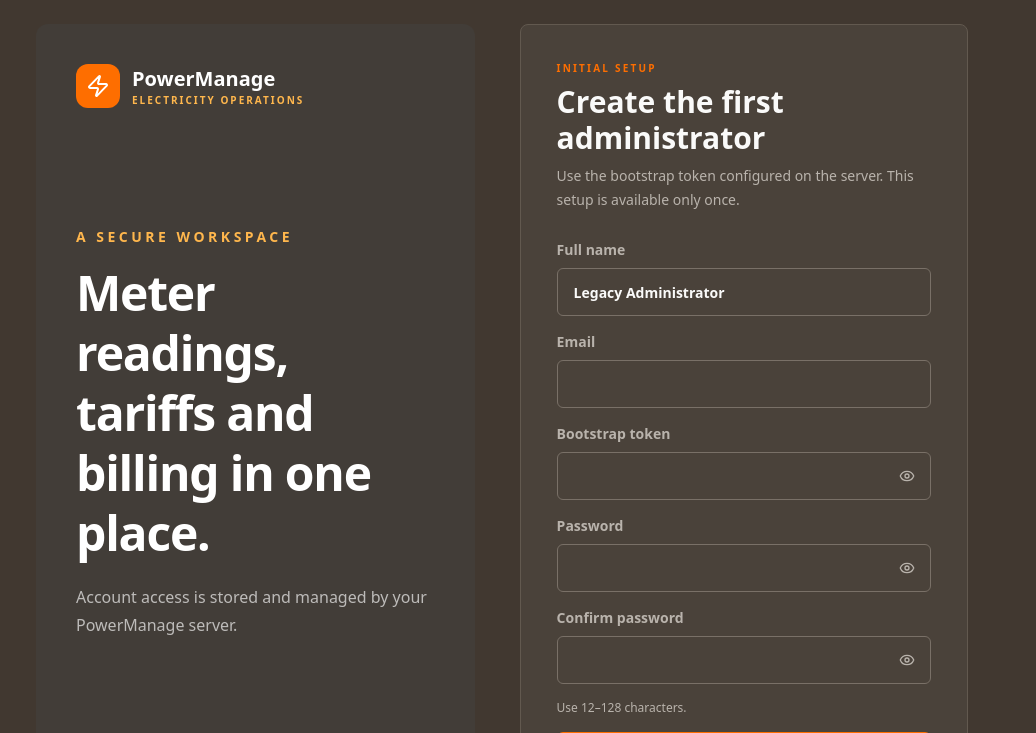
Scenario: AuthGate › prefills and removes the legacy profile name during first-admin bootstrap
The width and height of the screenshot is (1036, 733).
expect the heading "Create the first administrator" is shown: met, box [557,81,784,158]
expect the field labelled "Full name" holds "Legacy Administrator": met, box [557,268,931,316]
In the field labelled "Email": (744,384) [557,360,931,408], type "admin@example.com"
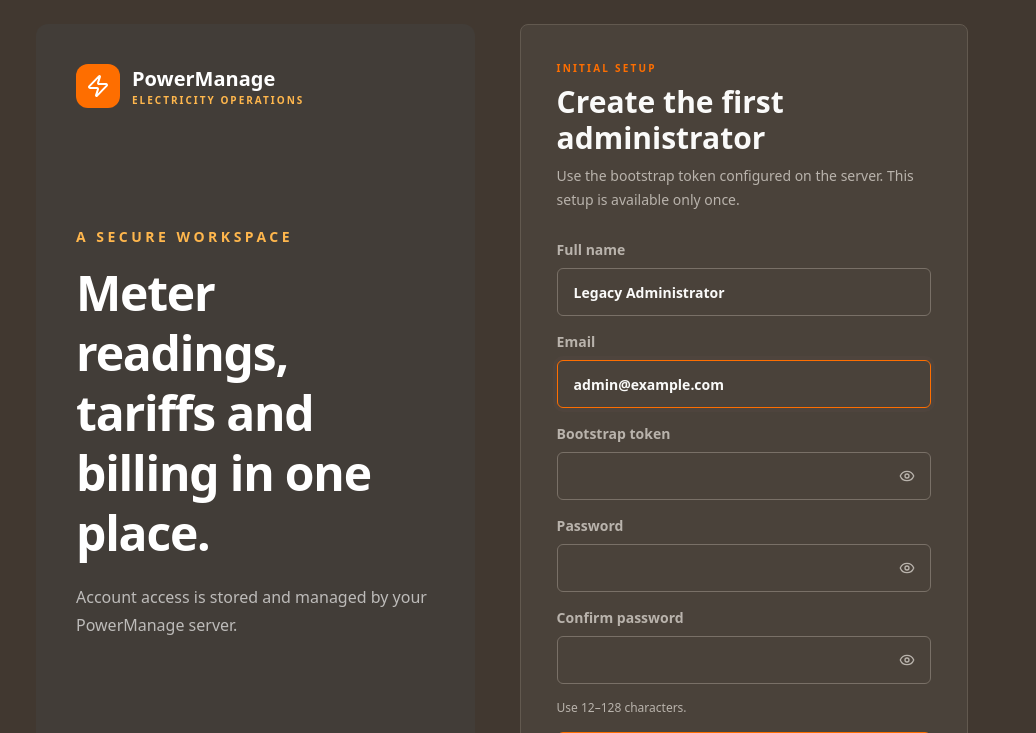
In the password field labelled "Bootstrap token": (744,476) [557,452,931,500], type "one-time-token"
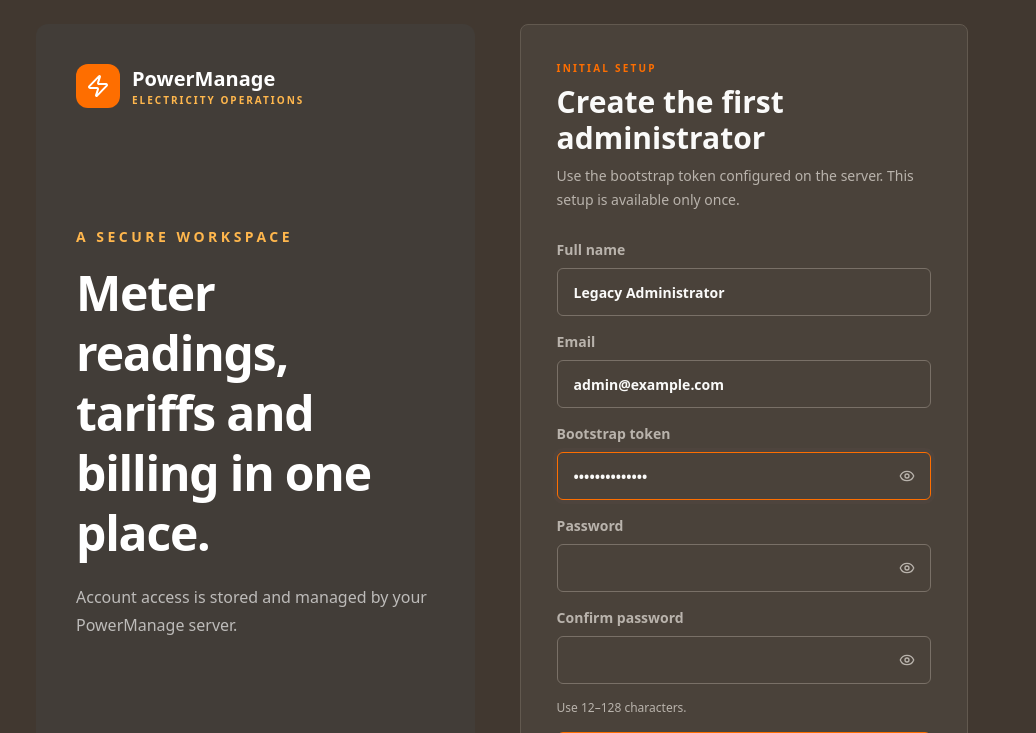
In the password field labelled "Password": (744,568) [557,544,931,592], type "BootstrapPass1!"
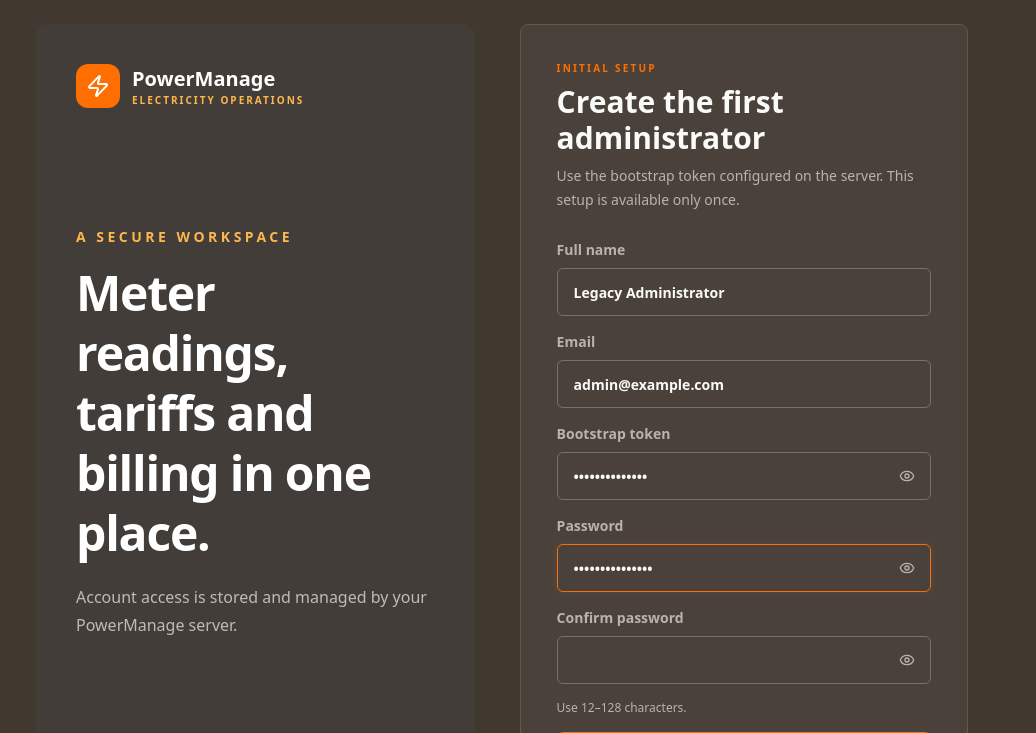
In the password field labelled "Confirm password": (744,660) [557,636,931,684], type "BootstrapPass1!"
(page scrolled)
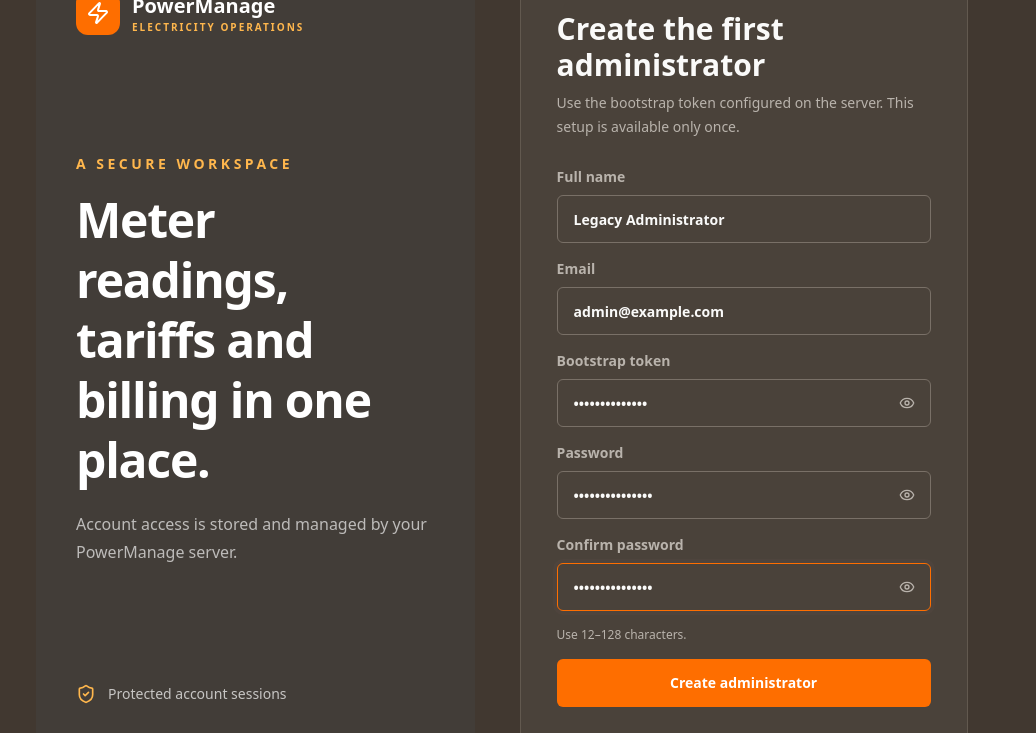
Click the button "Create administrator": (744,683) [557,659,931,707]
(page scrolled)
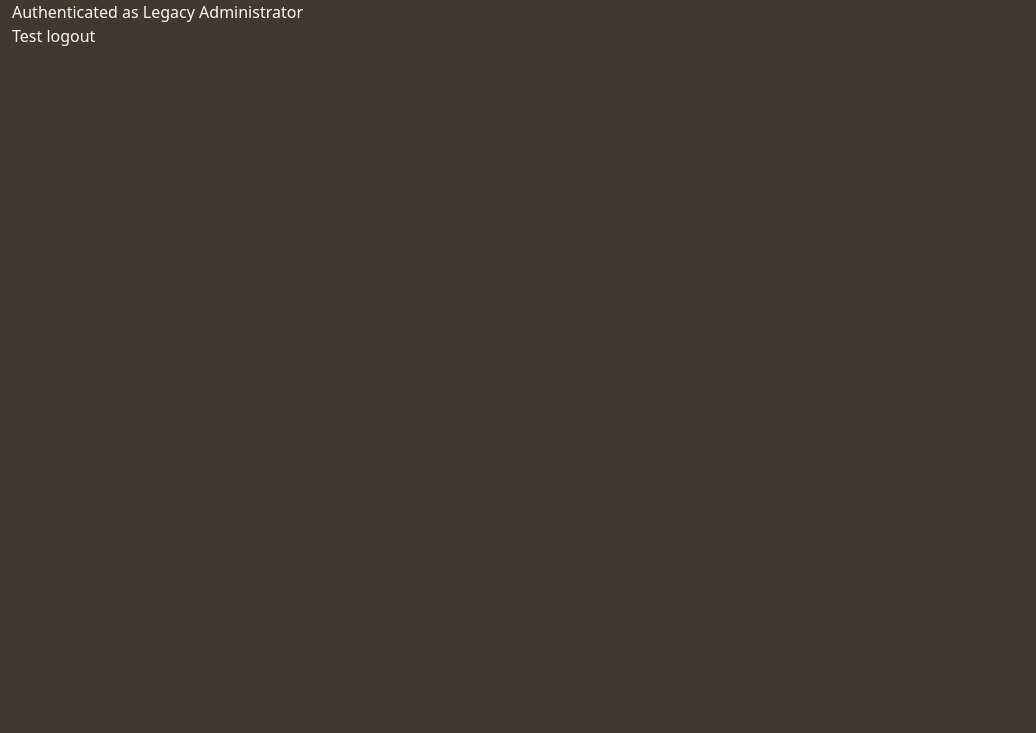
expect the text "Authenticated as Legacy Administrator" is shown: met, box [12,1,303,23]
